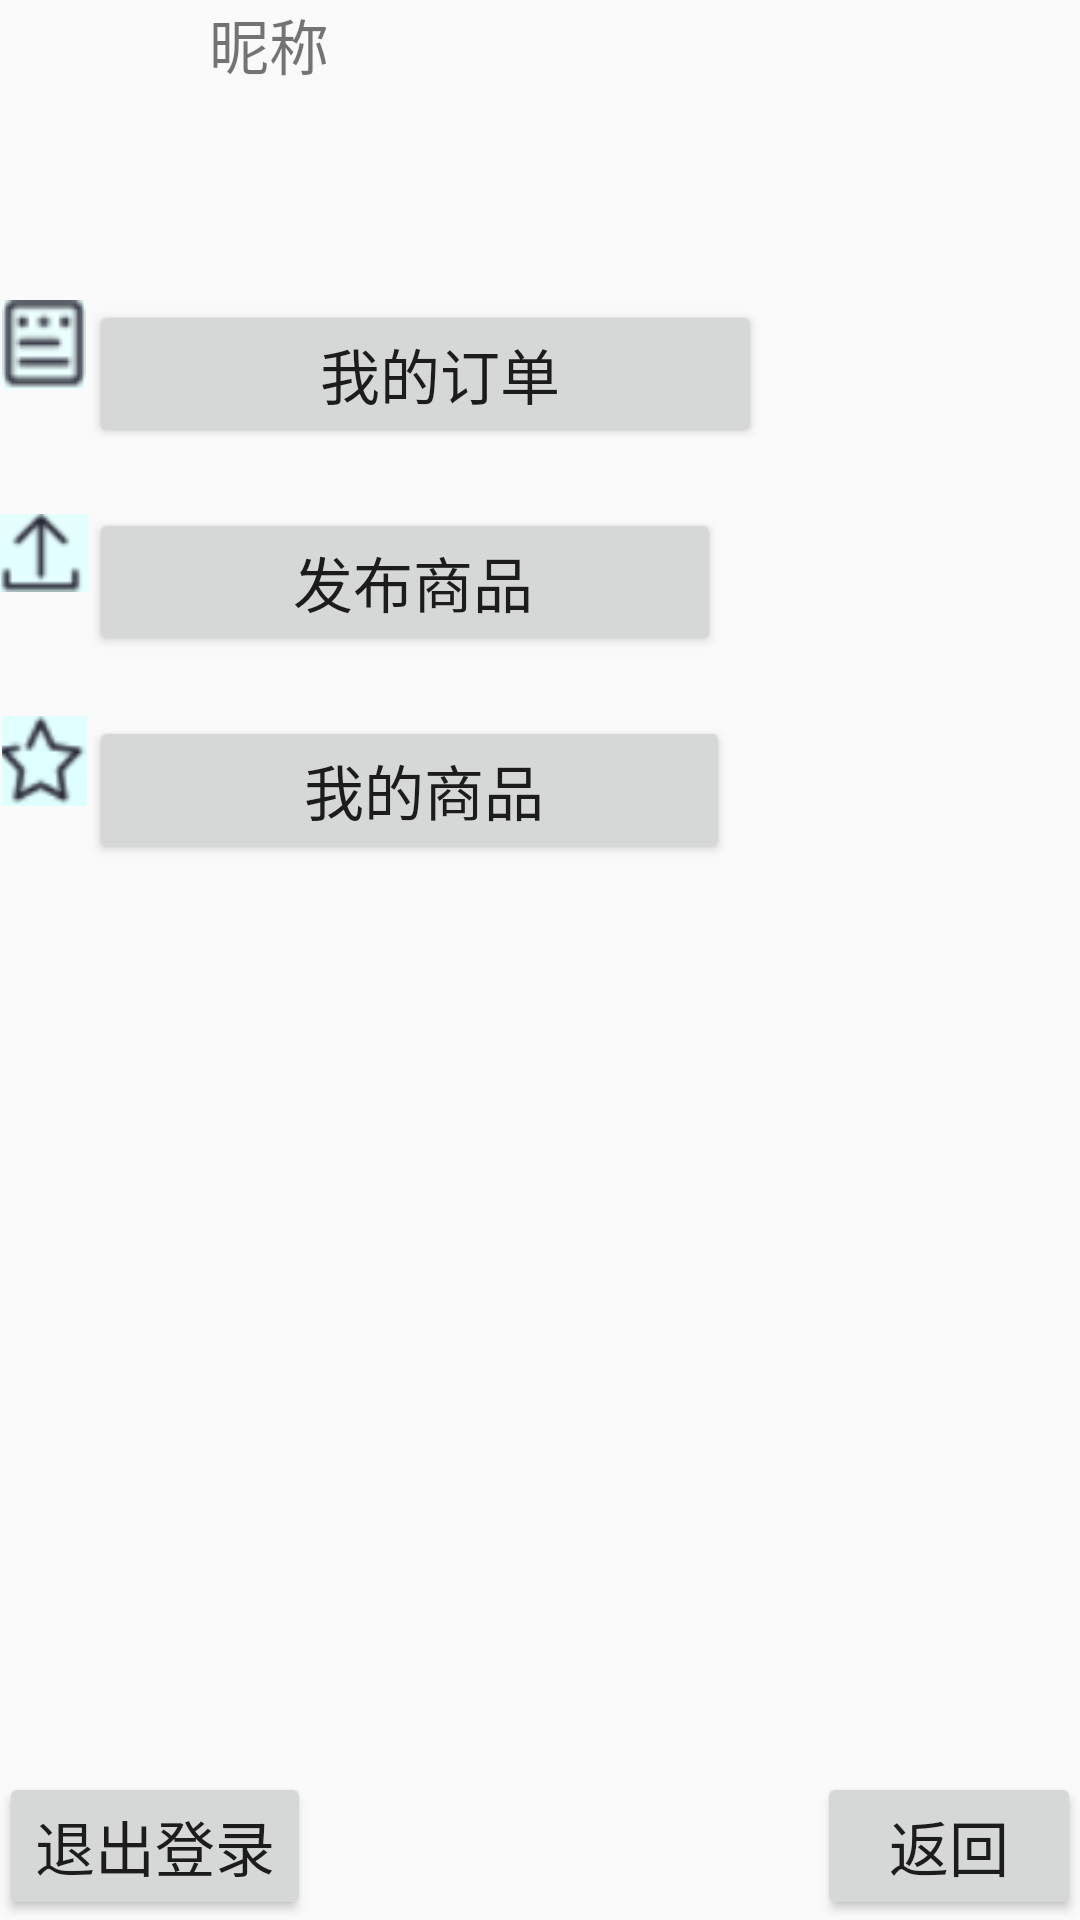

Icon click points for this 1080×1920 phone screenshot, format (x=x, y=y):
release: (x=44, y=553)
